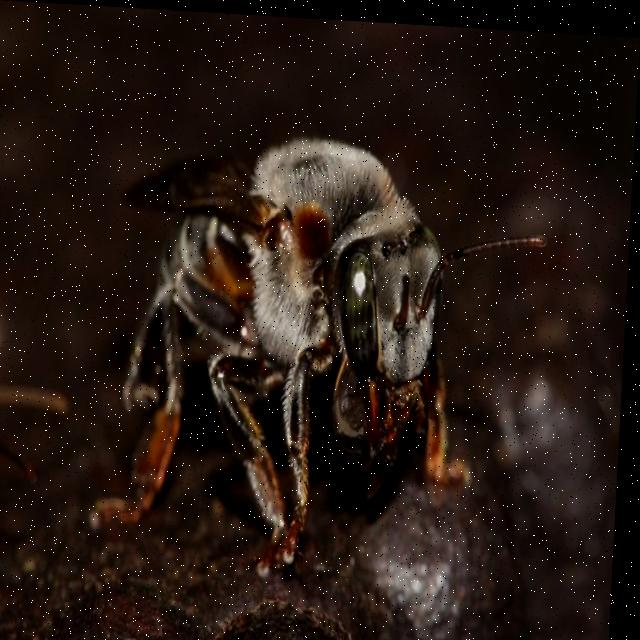Meliponula: (105, 114, 541, 569)
